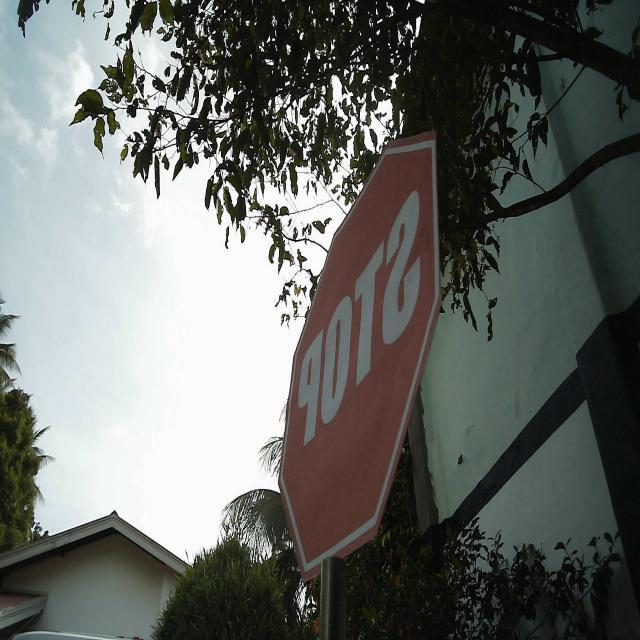stop: (256, 125, 445, 588)
